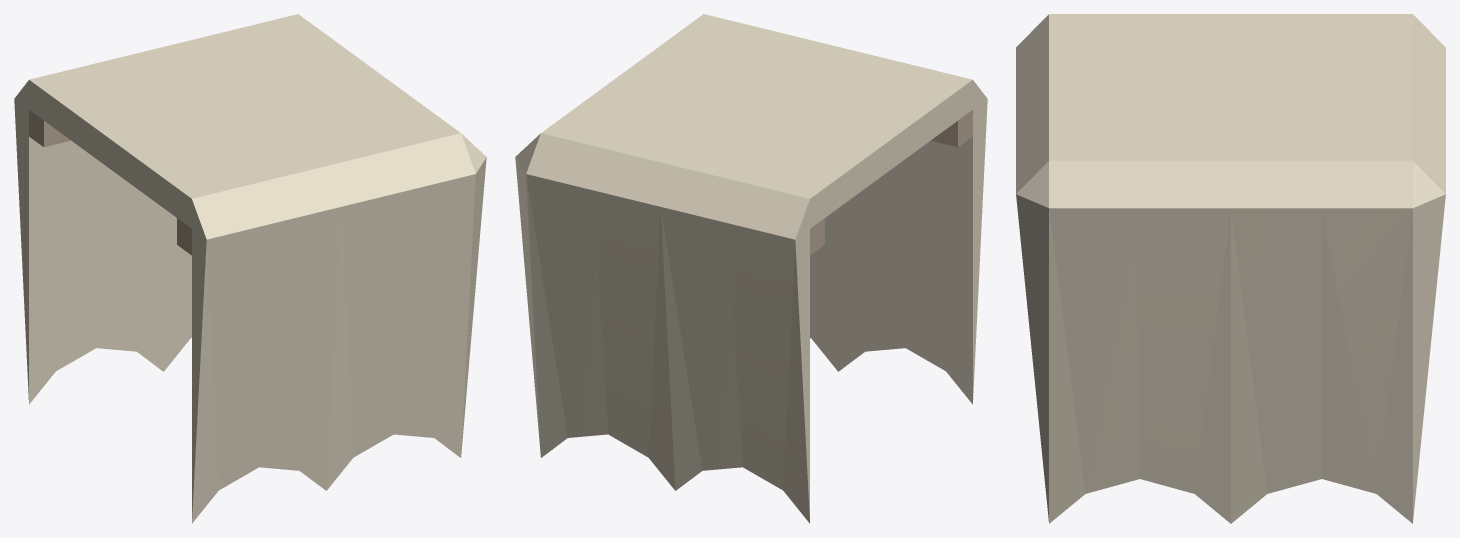
The model's file is Canopy_Full.glb.
3 views of the same model, side by side, from view 1: azimuth 30°, elevation 25°; view 2: azimuth 150°, elevation 25°; view 3: azimuth 270°, elevation 25° (orthographic). The views are drawn at different scales.
Parts seen in each view (by area): view 1: object2, object1; view 2: object2, object1; view 3: object2.
Boxes of the visible parts, <box> form: object2: <box>14,14,486,523</box>; object1: <box>29,110,191,255</box>; object2: <box>515,14,987,523</box>; object1: <box>810,110,972,255</box>; object2: <box>1016,14,1445,523</box>.
Size of the model in its own units: 1.15 by 1.21 by 1.3.
